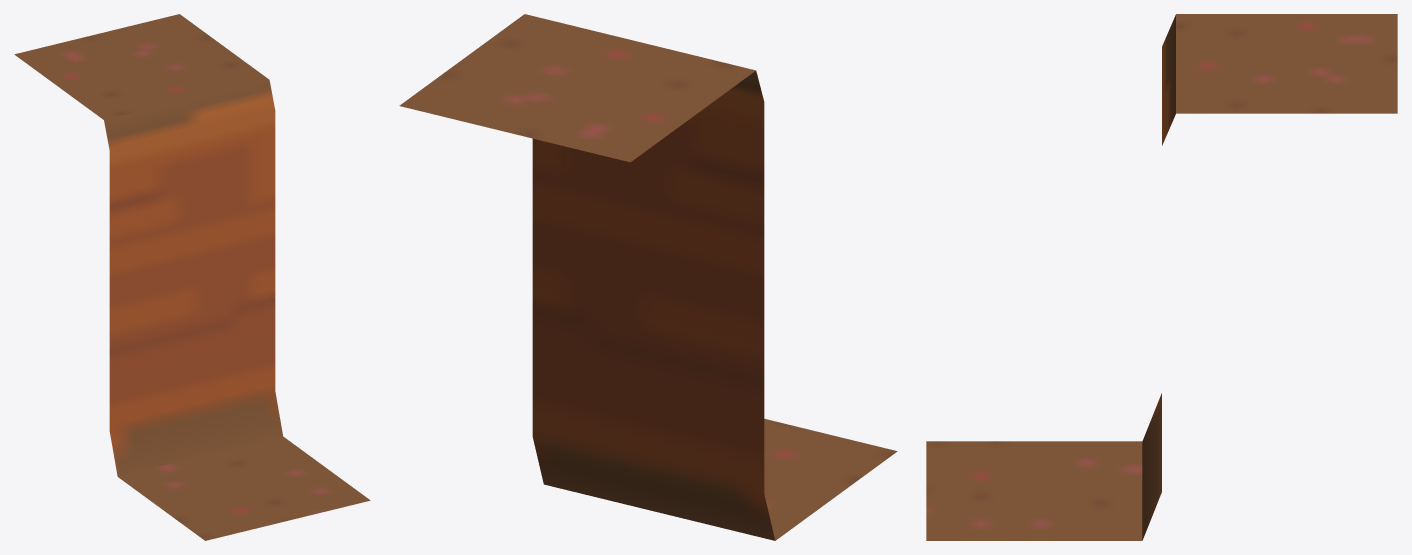
File: canion_top_straight.fbx
3 views of the same model, side by side, from view 1: azimuth 30°, elevation 25°; view 2: azimuth 150°, elevation 25°; view 3: azimuth 270°, elevation 25° (orthographic). The views are drawn at different scales.
Parts seen in each view (by area): view 1: canion_top_straight; view 2: canion_top_straight; view 3: canion_top_straight.
Boxes of the visible parts, x1,y1,x2,y2 form: canion_top_straight: (14, 14, 370, 540); canion_top_straight: (399, 14, 897, 540); canion_top_straight: (926, 14, 1397, 540).
Size of the model in its own units: 200 by 400 by 400.
